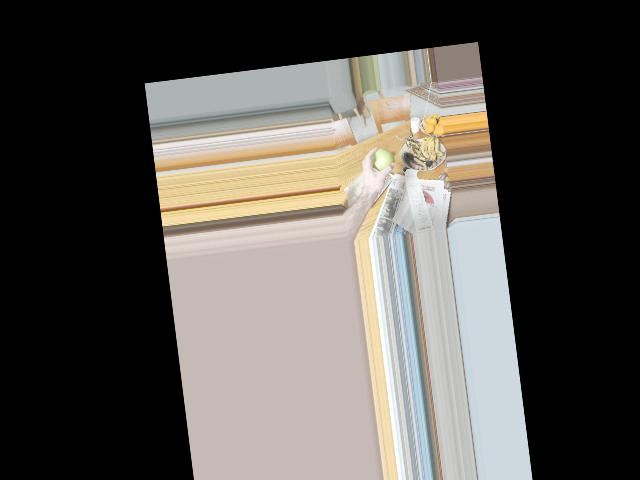apple: (370, 147, 396, 172)
